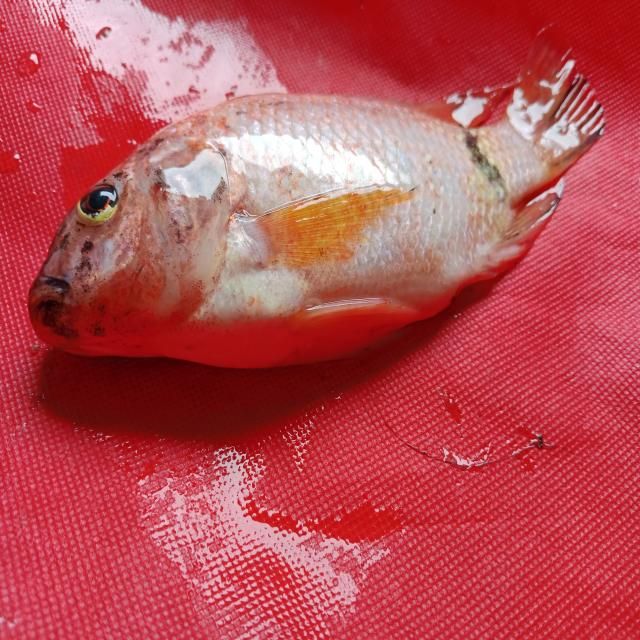ikan: (23, 50, 608, 383)
